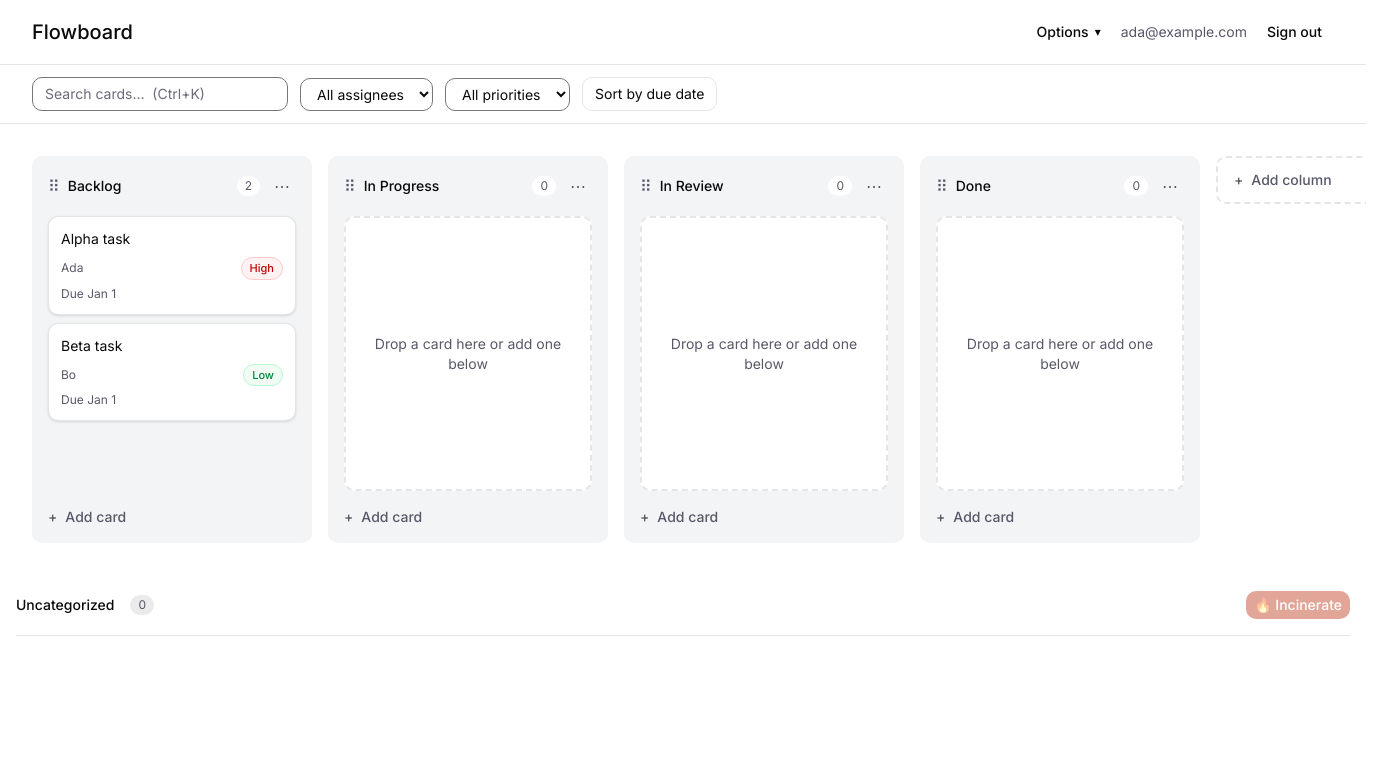
Test case: Board: filters › filters by search text and priority, and clears
The width and height of the screenshot is (1378, 768).
Expected: the text "Alpha task" is shown, [61,230,130,247]
In the search field named "Search cards by title or assignee": (160, 94) [32,77,288,111], type "beta"
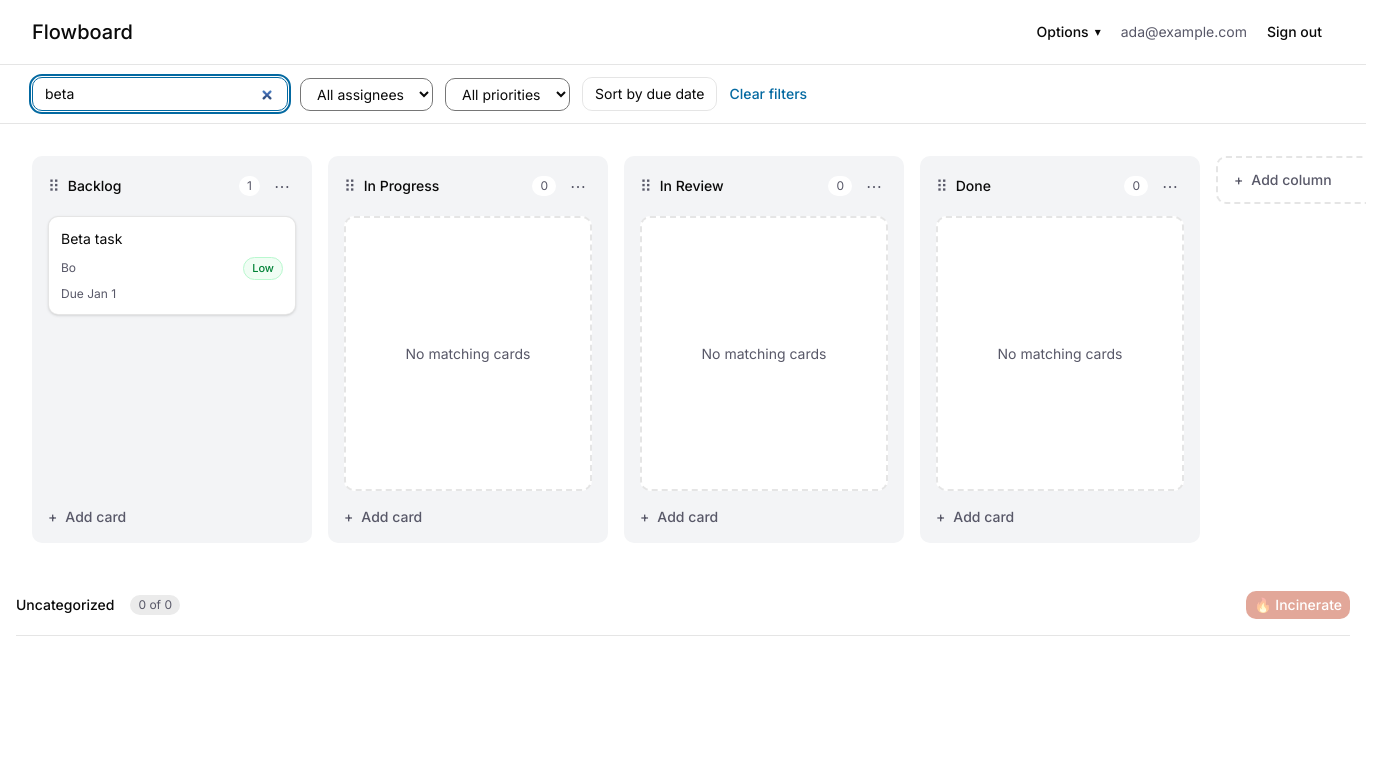
Expected: the text "Beta task" is shown, [61,230,122,247]
Expected: the button "Alpha task" is gone
Click the button "Clear filters": (768, 94) [730,84,807,104]
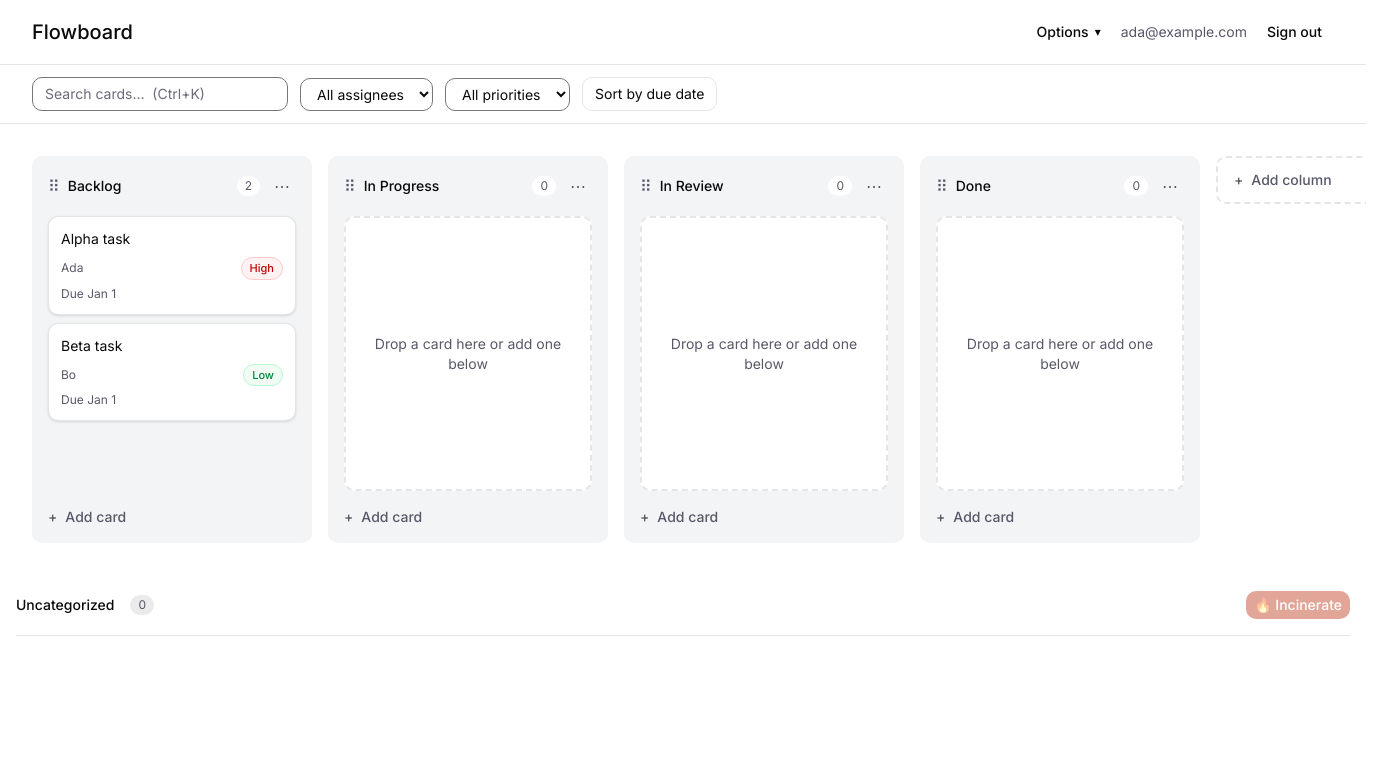
Select "High" in the dropdown named "Filter by priority": (508, 94) [445,78,570,110]
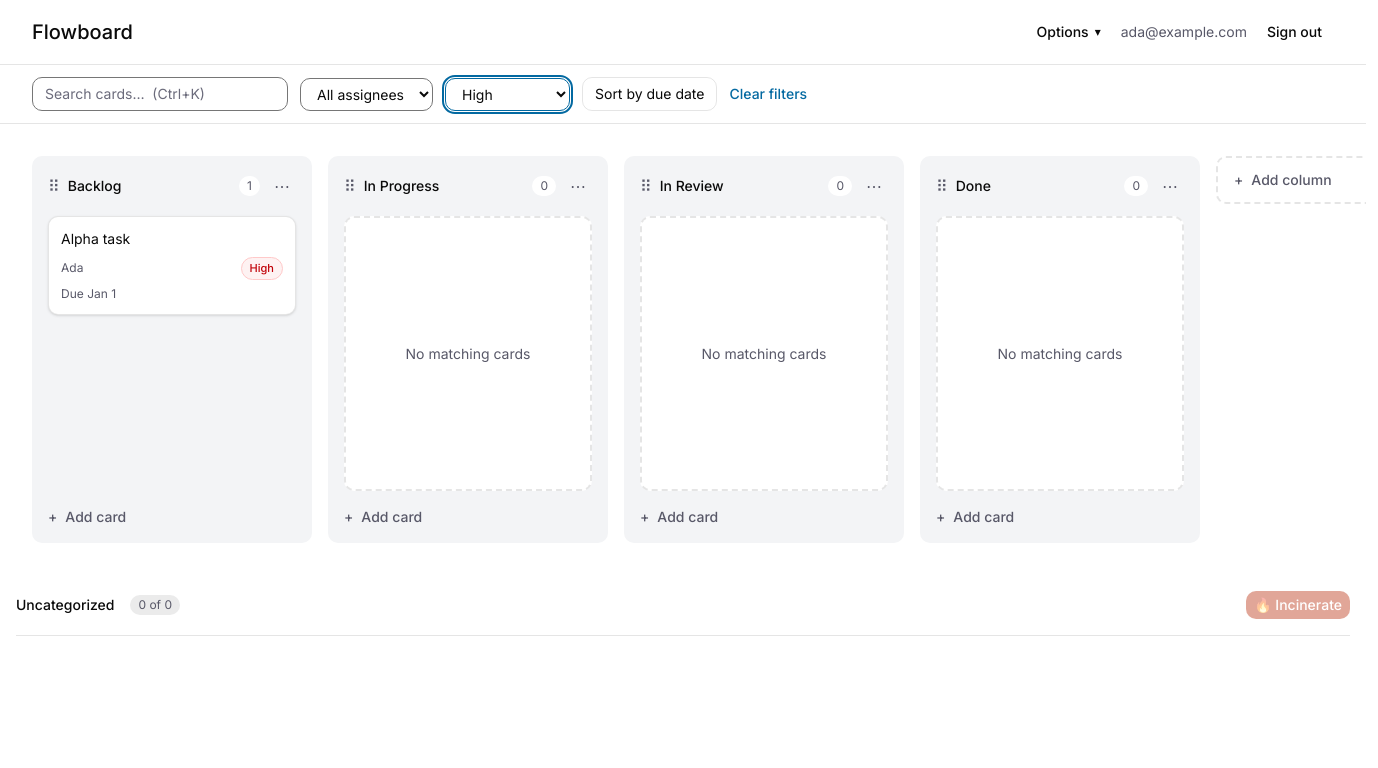
Expected: the text "Alpha task" is shown, [61,230,130,247]
Expected: the button "Beta task" is gone
